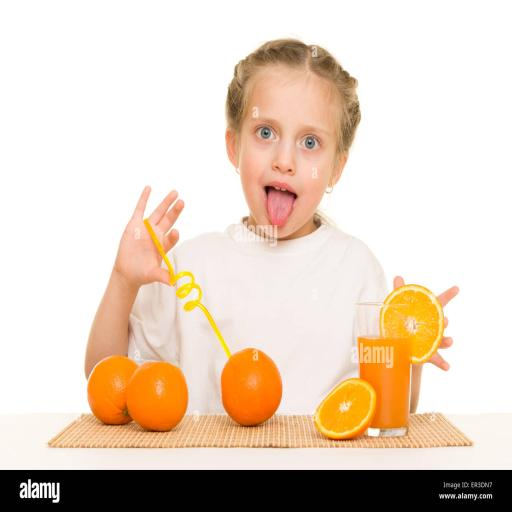orange: (221, 349, 282, 426), (127, 362, 188, 431), (88, 356, 137, 424)
